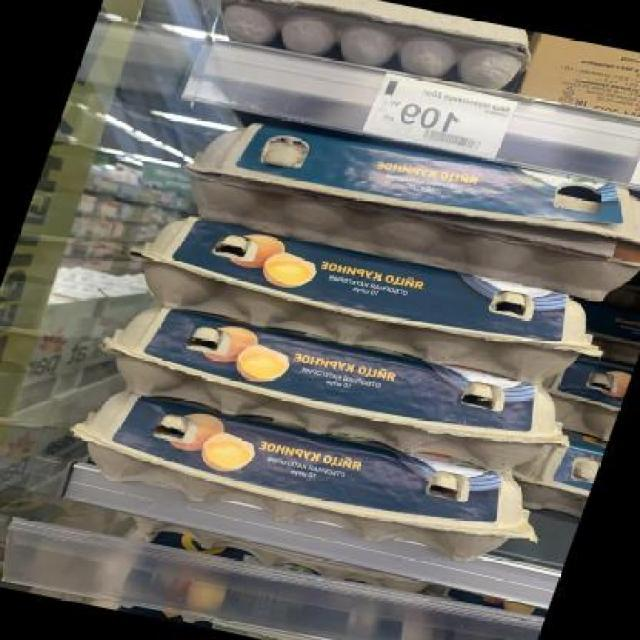egg: (166, 103, 640, 306), (55, 381, 552, 567), (117, 208, 614, 390), (89, 296, 584, 478), (515, 428, 608, 520)
